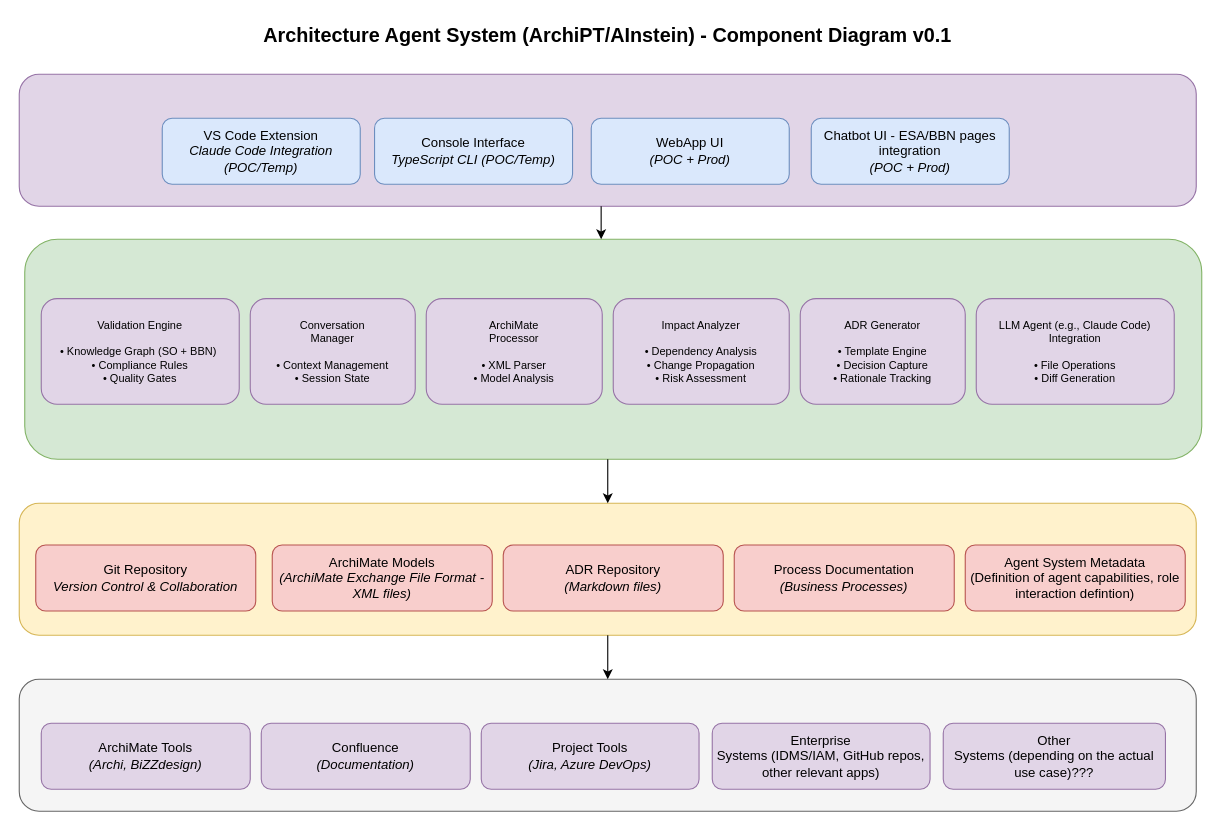
The diagram is 1221 pixels wide and 831 high, and some of its shapes have lost their labels. Here are the shapes that lost their labels. From the top down, the box of each, then its label:
(18, 73, 1196, 206): Presentation/UI Layer
(24, 238, 1202, 459): Architecture Agent Core Services
(18, 502, 1196, 635): Data Layer
(18, 678, 1196, 811): External Systems & Tools
